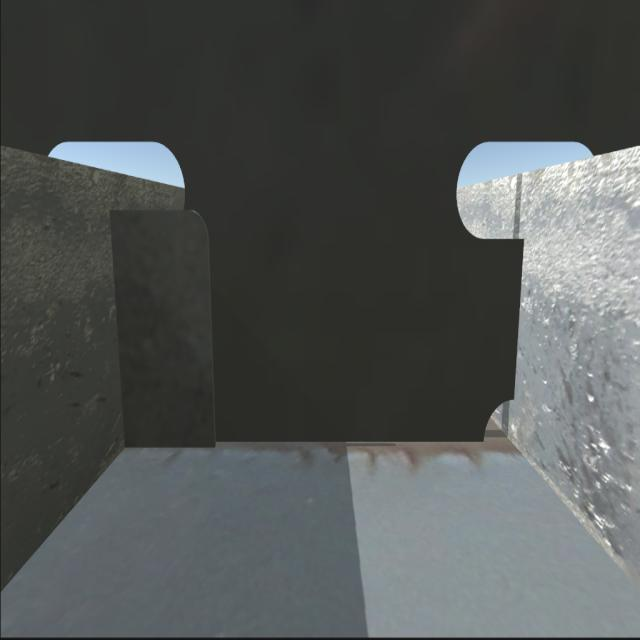fillet_hole: (479, 394, 518, 446)
fillet_yong_jeop_jang: (126, 439, 483, 448)
longi_yong_jeop_jang: (107, 211, 131, 443), (512, 247, 526, 397)
plate_CP05: (118, 208, 212, 451)
